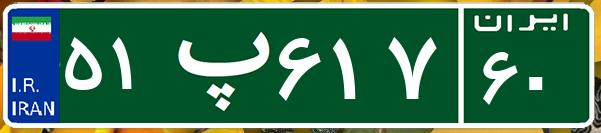0: (525, 38, 570, 115)
1: (330, 28, 385, 110), (110, 28, 158, 105)
5: (57, 26, 110, 107)
6: (273, 28, 330, 110), (475, 38, 525, 113)
7: (385, 28, 445, 110)
پ: (158, 15, 273, 115)
